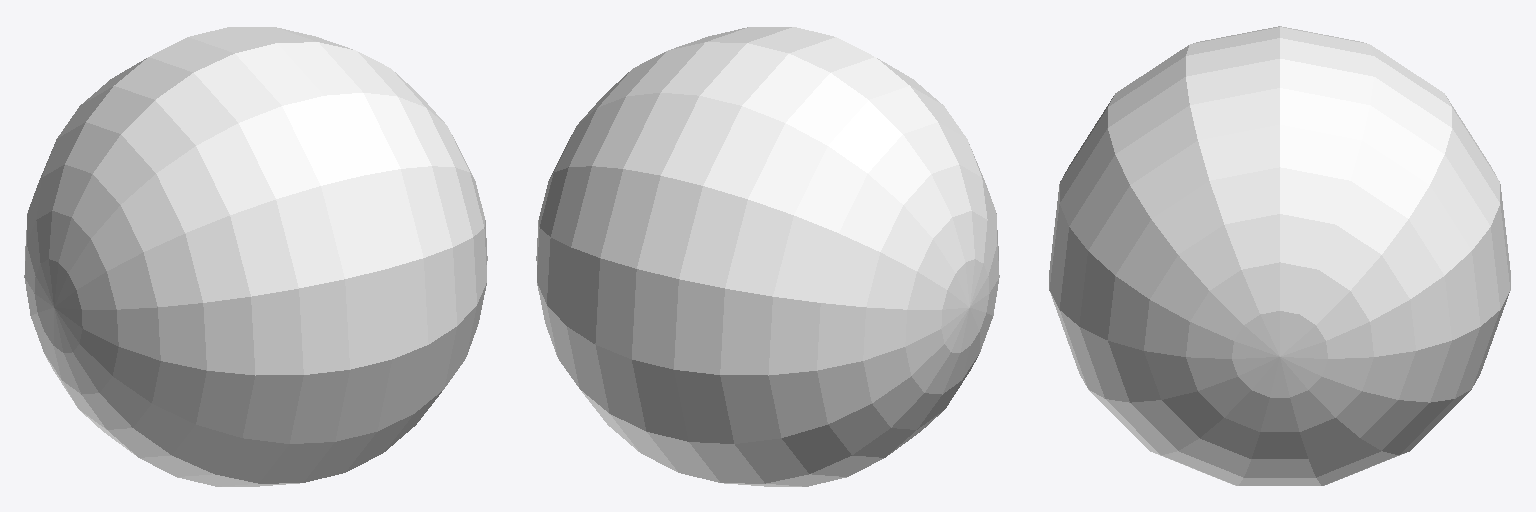
The picture shows the model from 3 angles: view 1: azimuth 30°, elevation 25°; view 2: azimuth 150°, elevation 25°; view 3: azimuth 270°, elevation 25°; orthographic projection.
Bounding box in the file's own units: 2 × 1.97 × 1.98.
Materials: 1 (1 with a texture image).